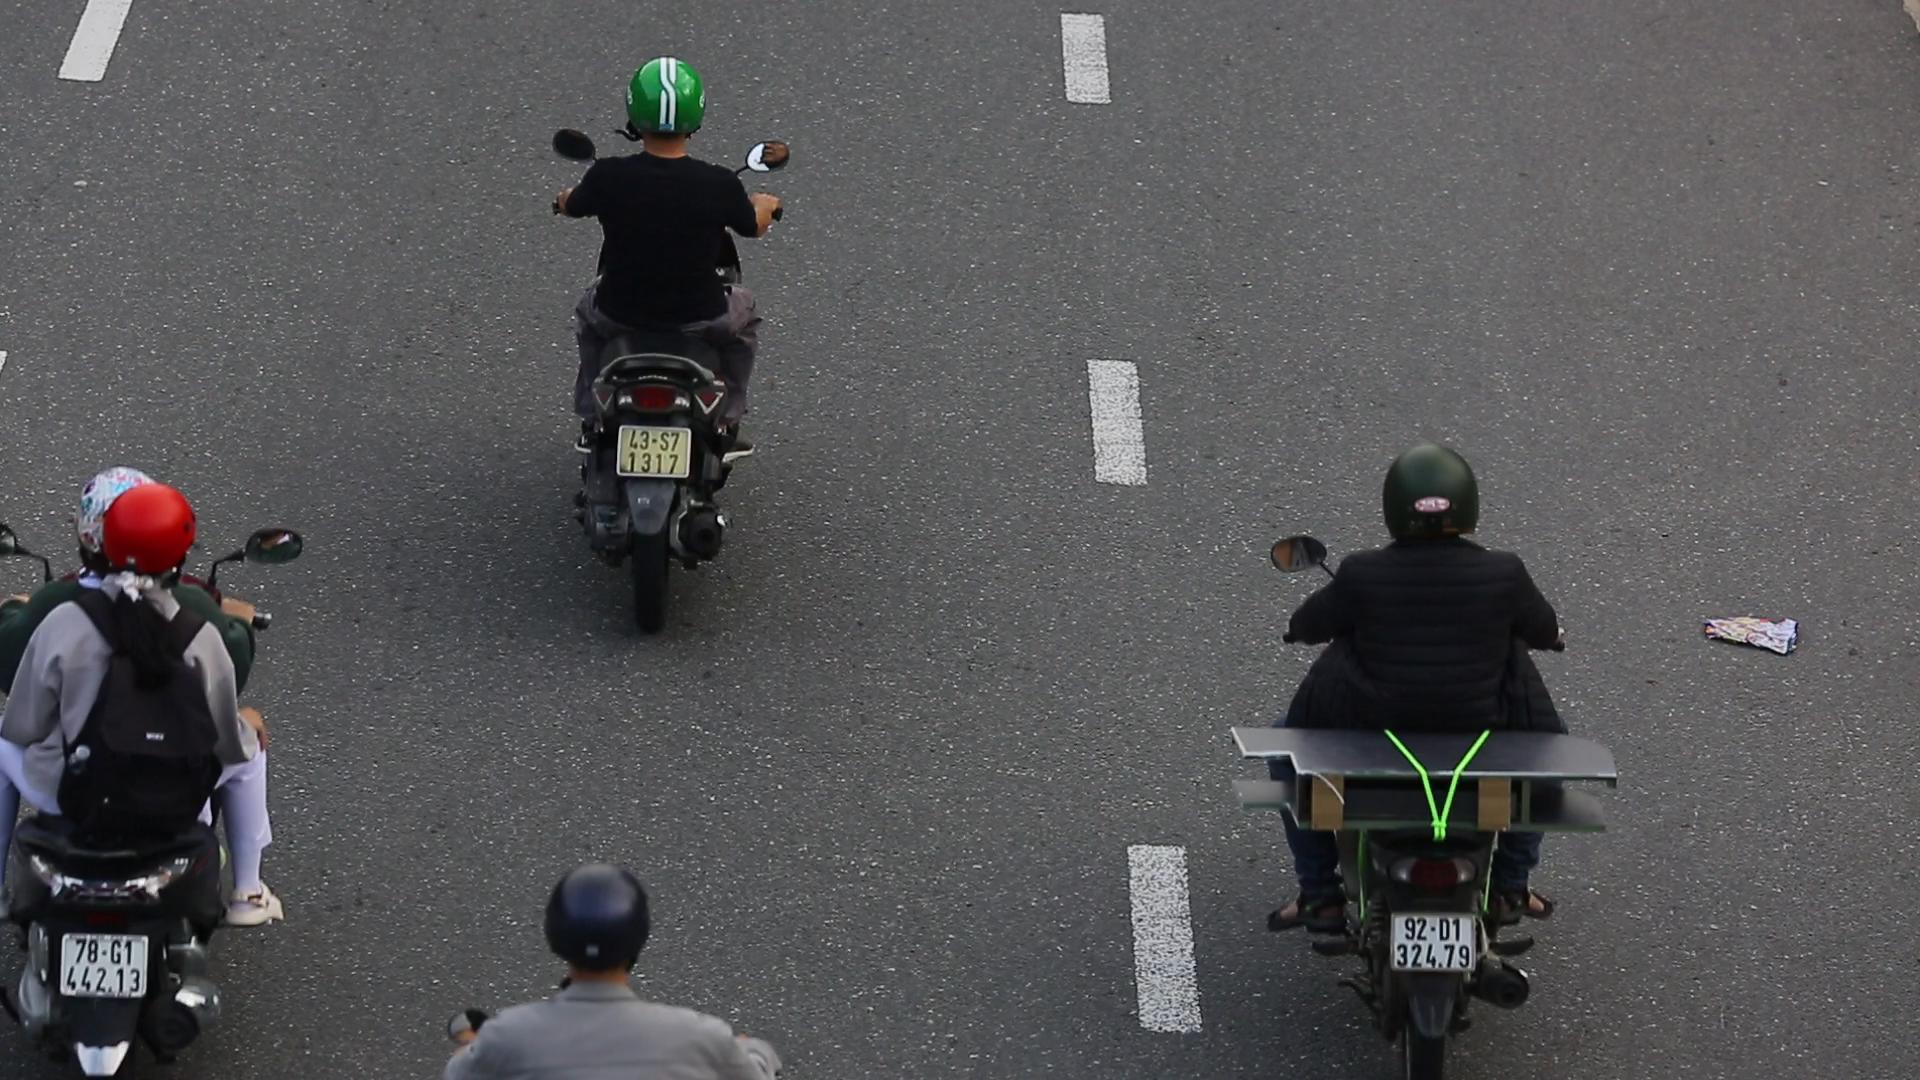motobike: (1265, 430, 1592, 1080), (0, 451, 298, 1080), (538, 51, 796, 647)
